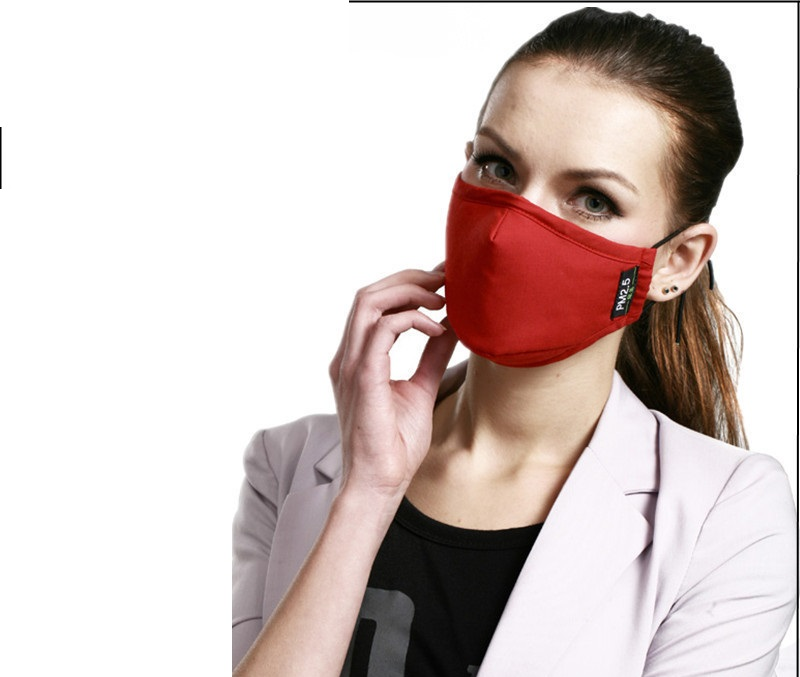face_mask: (441, 65, 656, 366)
